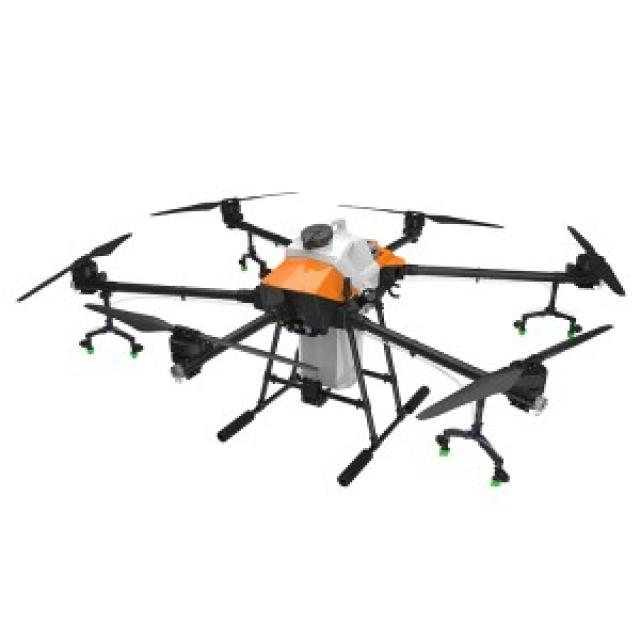drone: (0, 152, 640, 531)
